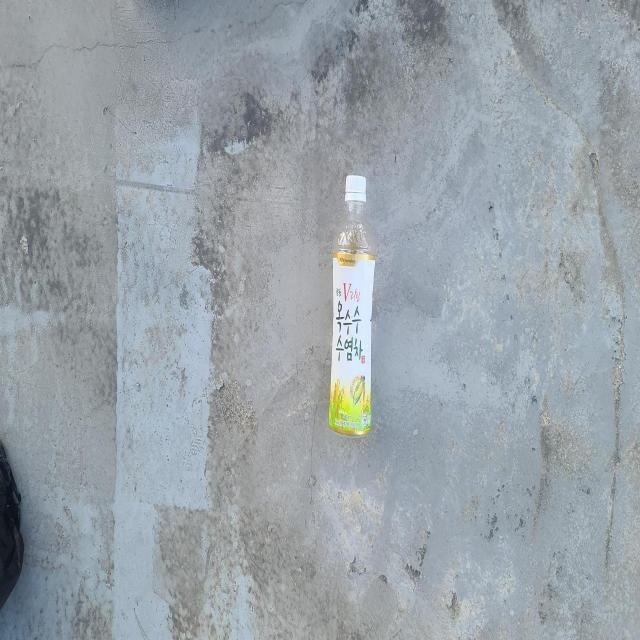plastic: (329, 174, 376, 436)
